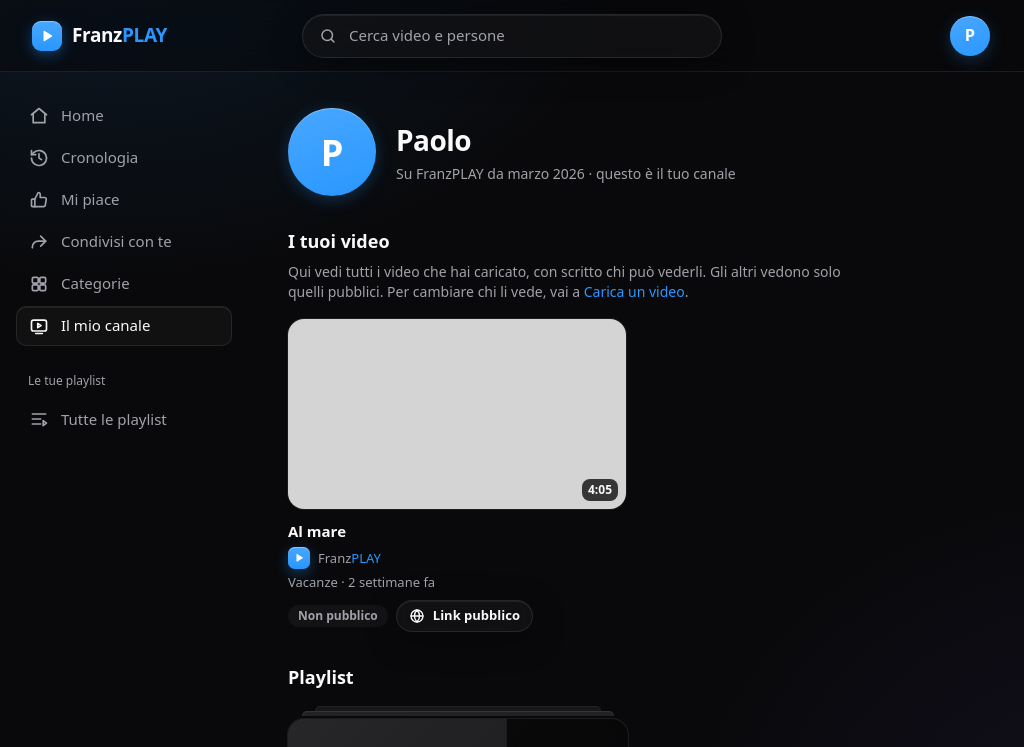
Scenario: channel page › makes, renews and turns off the public link of my video
Expected: the heading "Al mare" is shown, [288, 521, 346, 541]
What coordinates should you click on to do the following:
click the button with aria-label "Link pubblico di Al mare"
I would click on:
 (464, 616)
Its box is [396, 600, 533, 632].
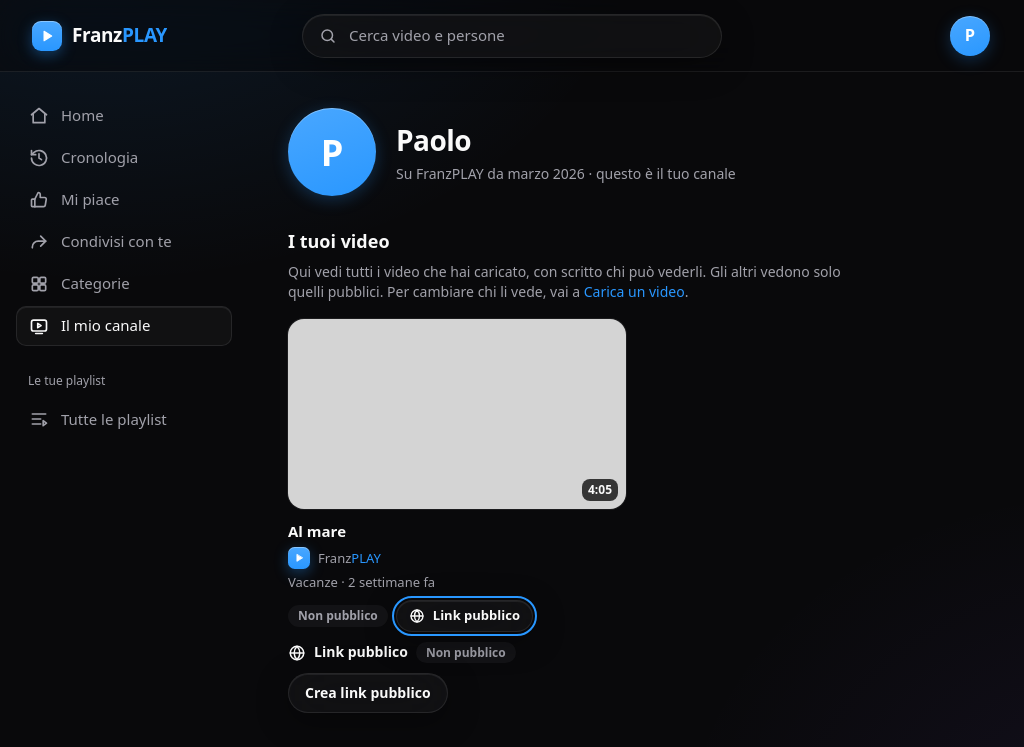
What coordinates should you click on to do the following:
click the button "Crea link pubblico"
I would click on:
 (368, 693)
Its box is [288, 673, 448, 713].
(page scrolled)
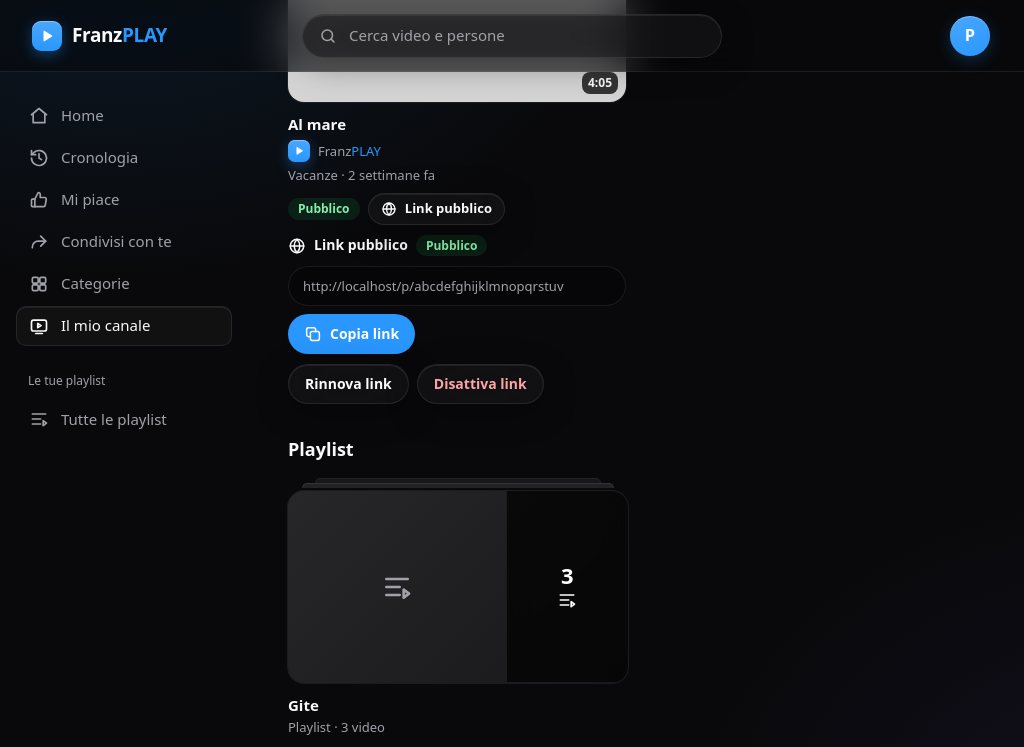
What coordinates should you click on to do the following:
click the button "Rinnova link"
I would click on:
 (348, 384)
Its box is [288, 364, 409, 404].
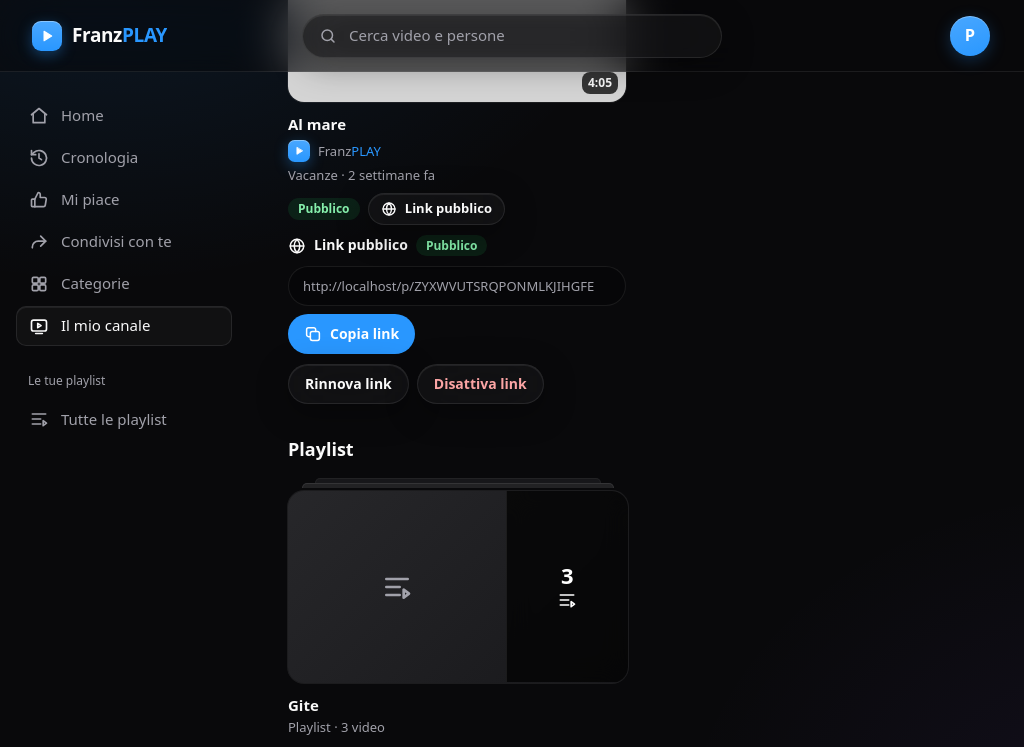
What coordinates should you click on to do the following:
click the button "Disattiva link"
I would click on:
 (480, 384)
Its box is [417, 364, 544, 404].
(page scrolled)
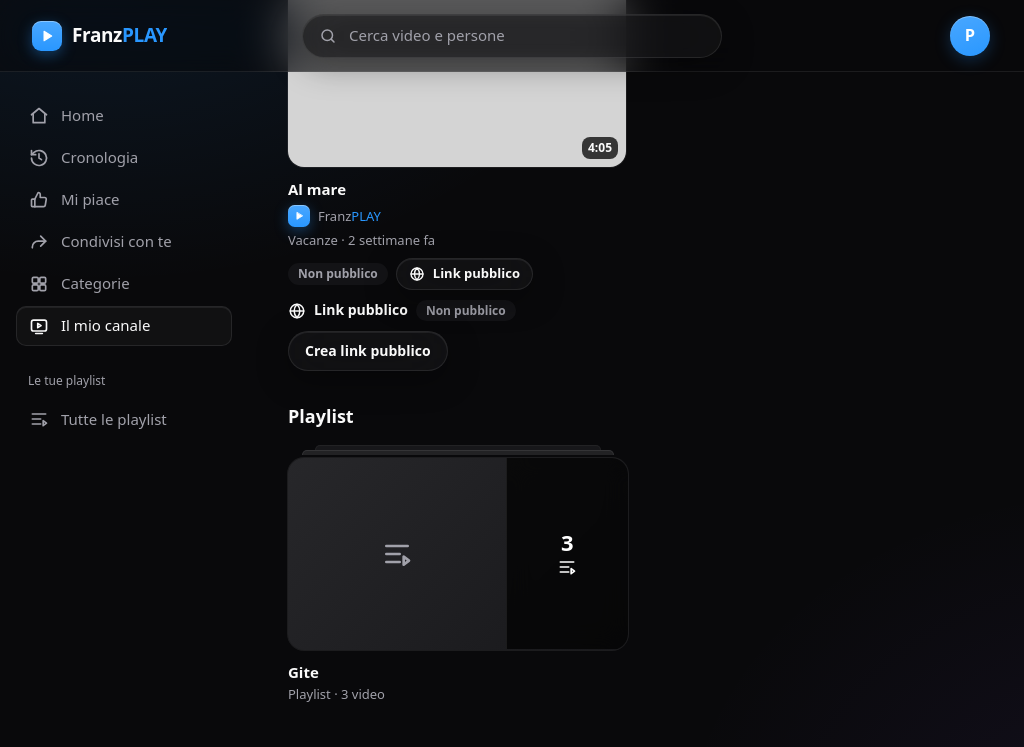
Expected: the button "Crea link pubblico" is shown, [288, 331, 448, 371]
